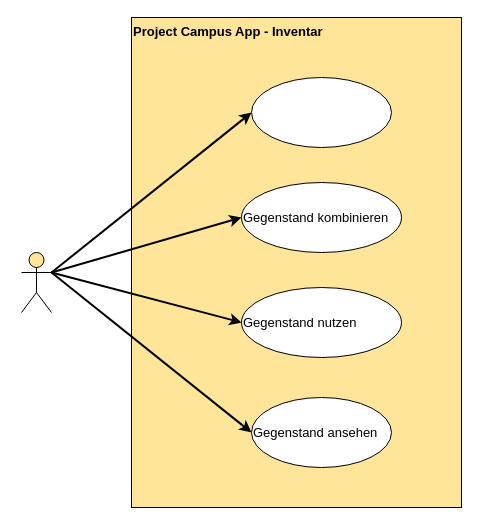
This 479x525 diagram has some shape labels left out. The box of each missing label's shape, as (x1, y1, x2, y2) in pixels:
Inventar schliessen: (250, 76, 392, 148)
Nutzer: (20, 252, 52, 312)
